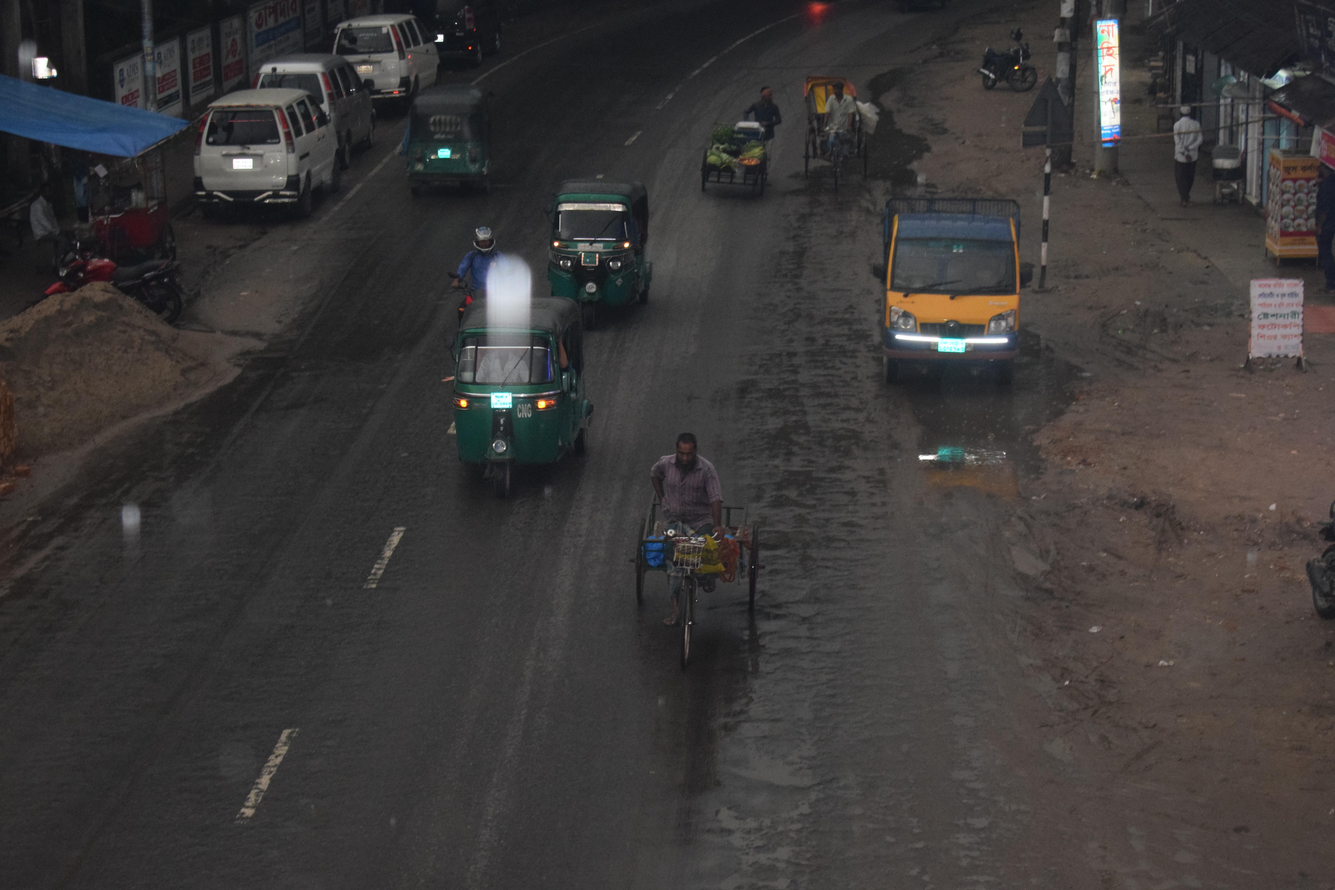Bike: (33, 218, 209, 345), (951, 24, 1053, 115)
Car: (593, 409, 804, 700), (179, 85, 348, 241), (773, 50, 900, 210), (310, 0, 462, 121), (250, 43, 391, 167)
Truck: (844, 164, 1061, 428)
